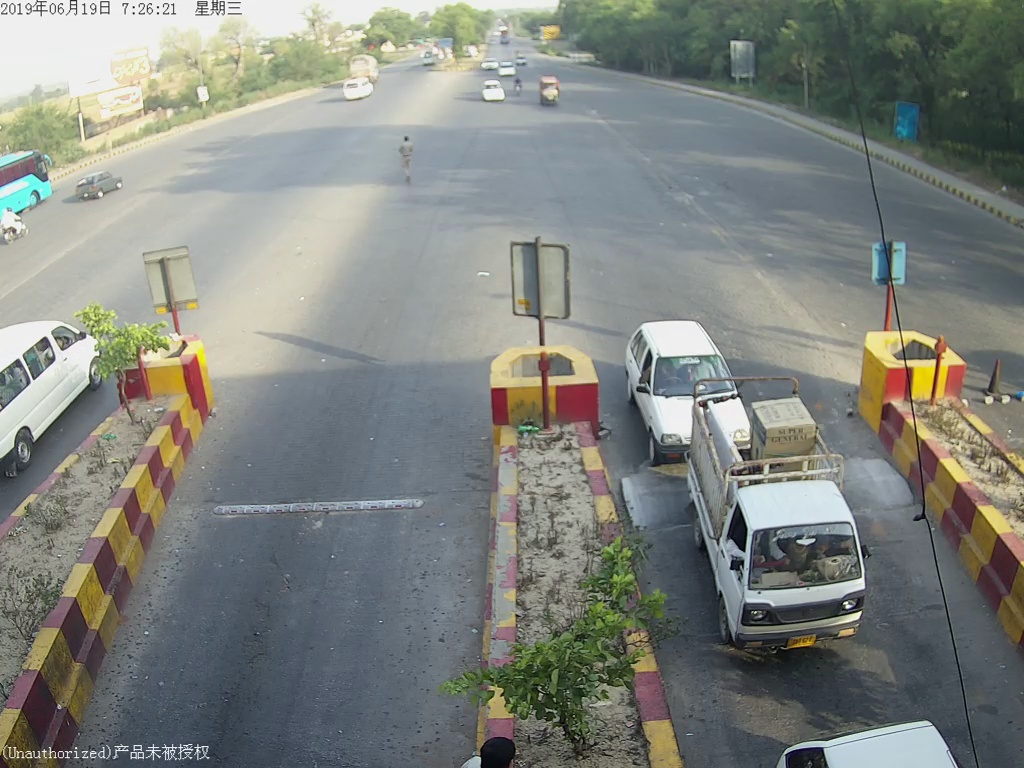Cat-1: (693, 384, 881, 664), (626, 319, 686, 452)
